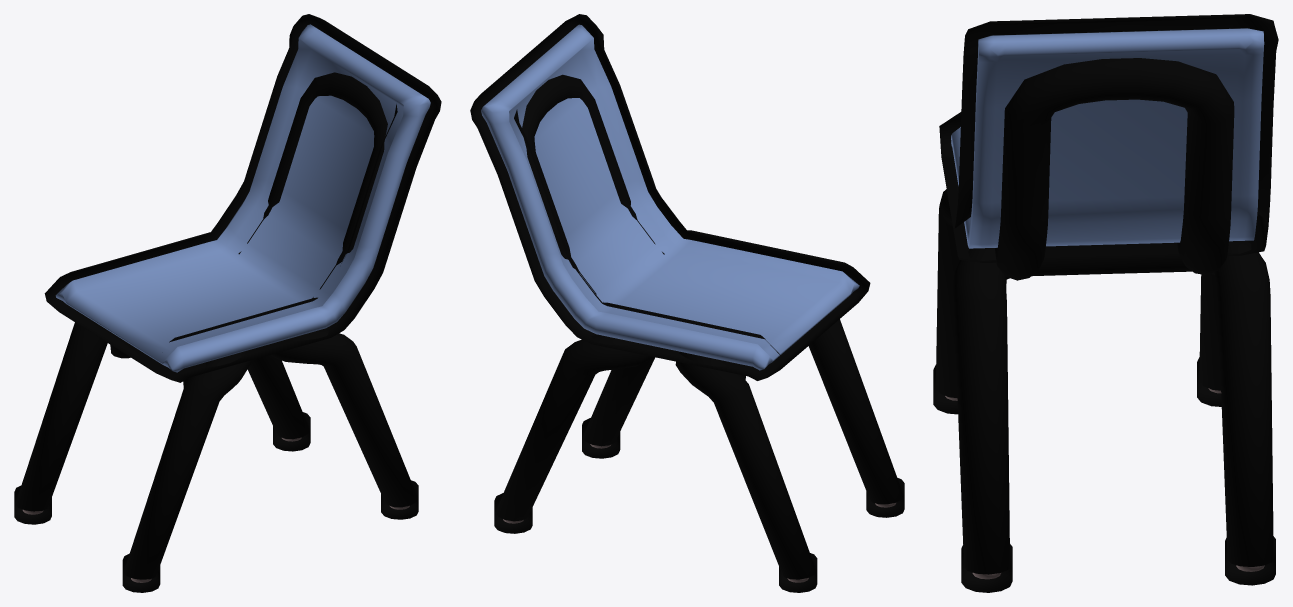
File: chair2.fbx
3 views of the same model, side by side, from view 1: azimuth 30°, elevation 25°; view 2: azimuth 150°, elevation 25°; view 3: azimuth 270°, elevation 25° (orthographic). The views are drawn at different scales.
Visible parts, largest first — view 1: Circle.026; view 2: Circle.026; view 3: Circle.026.
Part boxes in pixels (bbox=[...]): Circle.026: bbox=[14, 14, 441, 592]; Circle.026: bbox=[470, 14, 904, 592]; Circle.026: bbox=[933, 14, 1278, 592].
Bounding box in the file's own units: 282 × 338 × 186.
